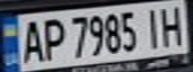5: (118, 7, 142, 54)
7: (66, 12, 90, 60)
8: (103, 10, 124, 55)
9: (84, 11, 106, 57)
A: (15, 16, 45, 64)
H: (157, 2, 190, 47)
I: (139, 4, 166, 50)
P: (36, 15, 66, 62)
